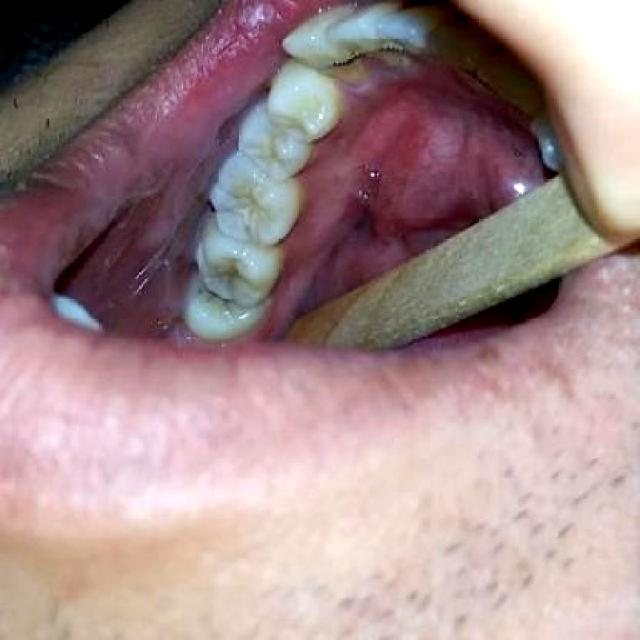Plaque: (207, 255, 250, 289), (226, 216, 256, 247)
